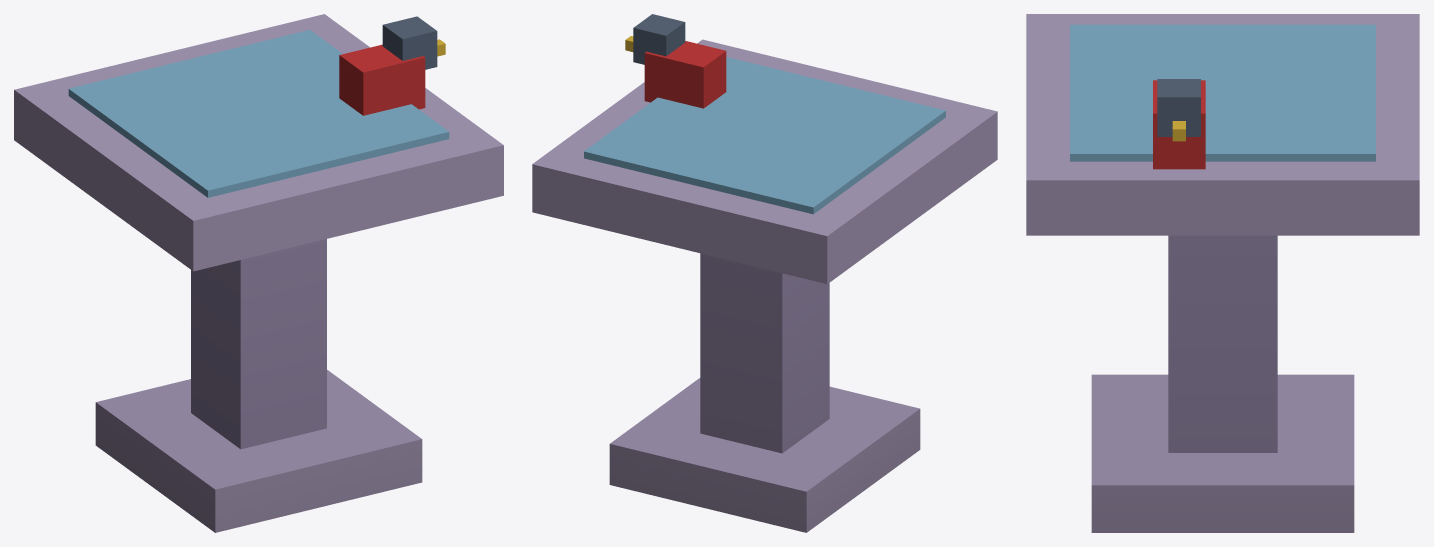
Rendered from vignette-birdbath.glb.
3 renders of one model, left to right at view 1: azimuth 30°, elevation 25°; view 2: azimuth 150°, elevation 25°; view 3: azimuth 270°, elevation 25°, orthographic. The views are drawn at different scales.
Visible parts, largest first — view 1: vignette-birdbath_body; view 2: vignette-birdbath_body; view 3: vignette-birdbath_body.
Part boxes in pixels (x1,y1,x2,y2): vignette-birdbath_body: (14, 14, 503, 532); vignette-birdbath_body: (532, 14, 997, 532); vignette-birdbath_body: (1026, 14, 1419, 532).
Bounding box in the file's own units: 0.925 × 1.16 × 0.9.
